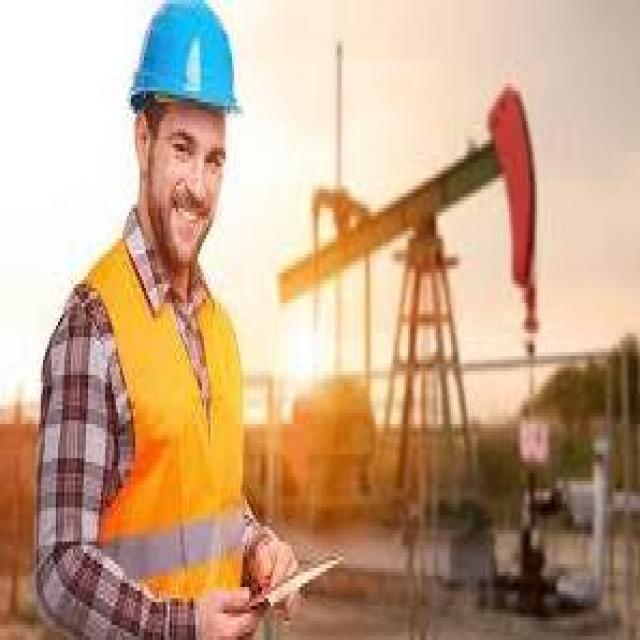Reflective-Jacket: (65, 235, 252, 617)
Safety-Helmet: (125, 0, 247, 125)
